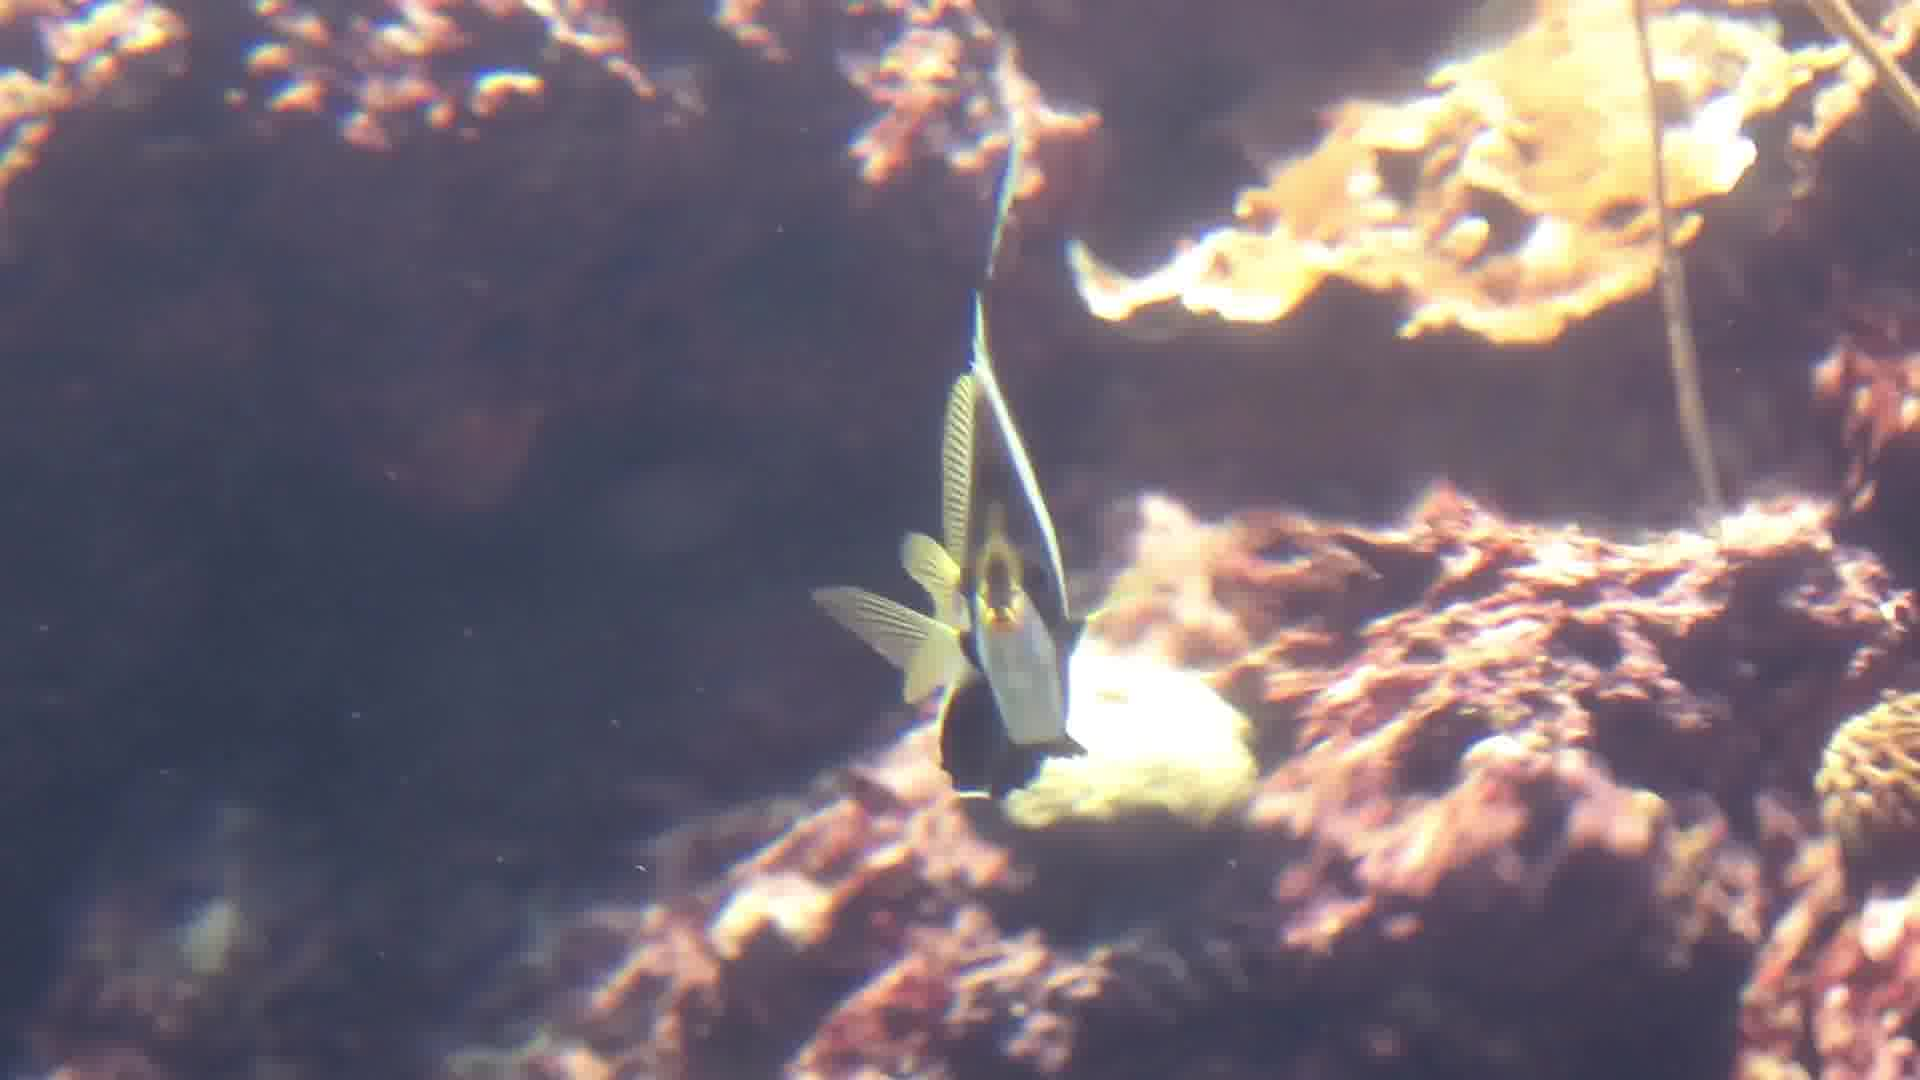Heniochus chrysostomus: (778, 154, 1197, 895)
